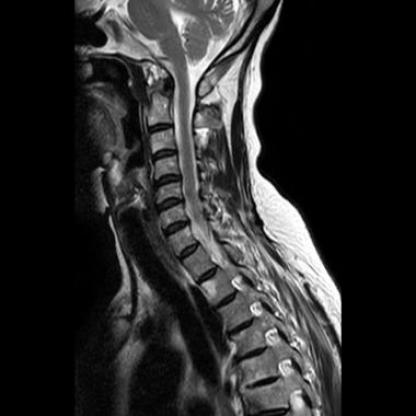Disc Bulgerotation: (162, 218, 192, 239), (153, 195, 187, 213), (152, 172, 183, 188)
